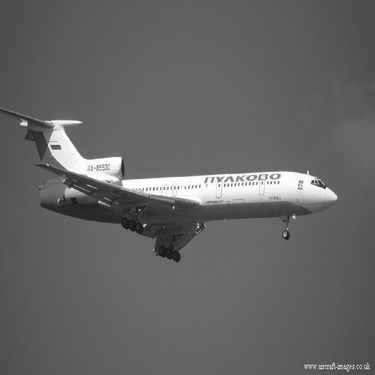airplane: (1, 100, 343, 264)
